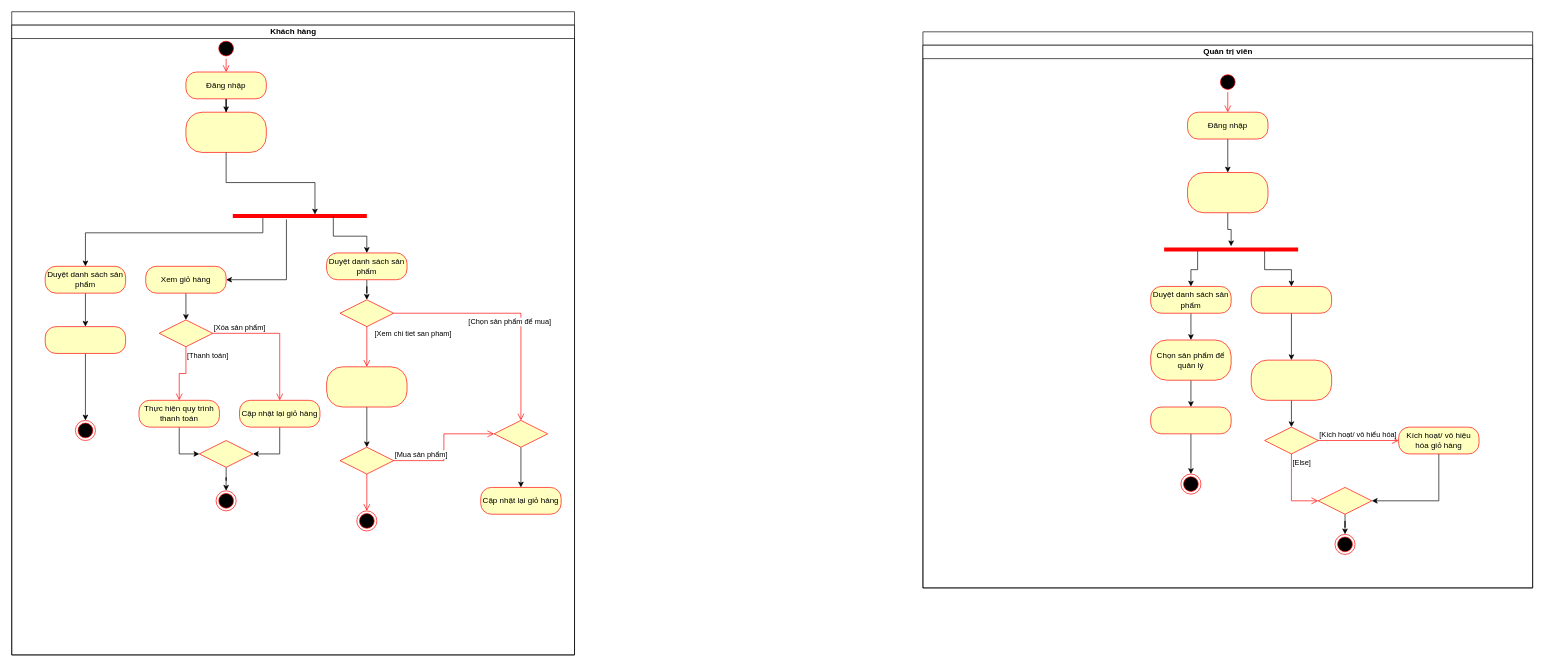
This 1544x667 diagram has some shape labels left out. The shapes that lost their labels are listed below. From the top down, each one's box as (x1, y1, x2, y2) in pixels, then its label:
(185, 112, 266, 152): Chuyển đến trang bắt đầu
(1187, 172, 1268, 213): Chuyển đến trang quản trị
(1251, 286, 1332, 313): Duyệt danh sách tài khoản khách hàng
(45, 326, 126, 353): Đánh giá sản phẩm
(326, 366, 407, 407): Chọn sản phẩm để xem chi tiết
(1251, 359, 1332, 400): Chọn tài khoản để xem chi tiết giỏ hàng
(1150, 406, 1231, 434): Quản lý sản phẩm
